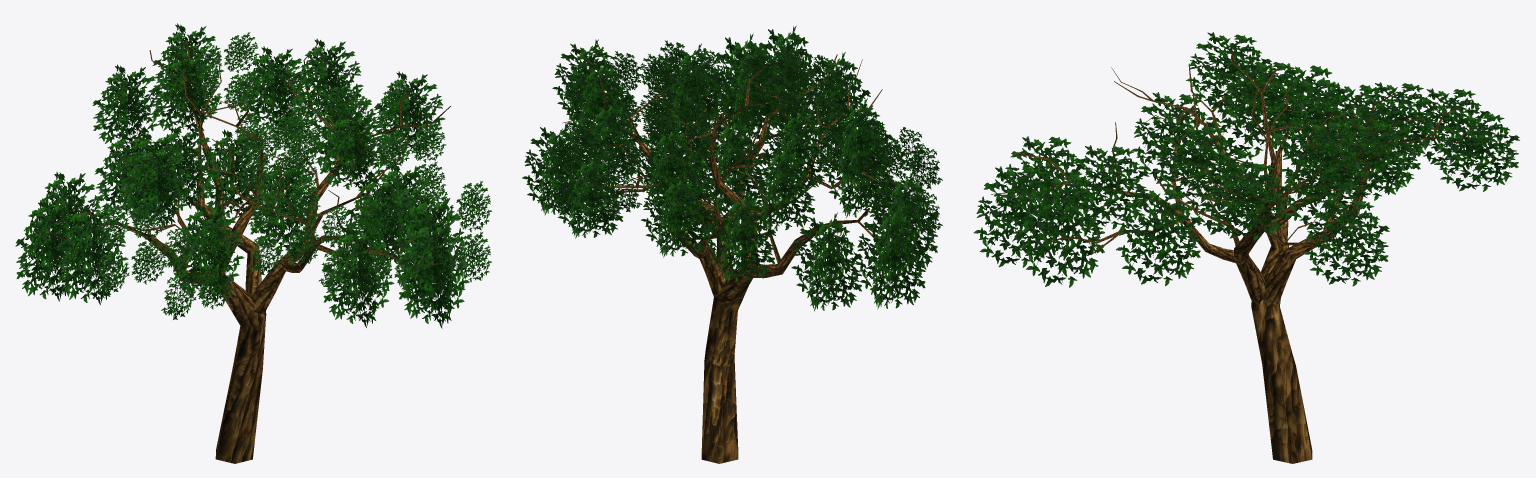
The model's file is LVL_ROAST_MUTTON_INSTANCE_OAK_TREE.fbx.
The picture shows the model from 3 angles, left to right: view 1: azimuth 30°, elevation 25°; view 2: azimuth 150°, elevation 25°; view 3: azimuth 270°, elevation 25°; orthographic projection. The views are drawn at different scales.
Visible parts, largest first — view 1: LVL_ROAST_MUTTON_INSTANCE_OAK_TREE; view 2: LVL_ROAST_MUTTON_INSTANCE_OAK_TREE; view 3: LVL_ROAST_MUTTON_INSTANCE_OAK_TREE.
Part boxes in pixels (box(x1,y1,x2,y2)): LVL_ROAST_MUTTON_INSTANCE_OAK_TREE: box(15, 23, 491, 463); LVL_ROAST_MUTTON_INSTANCE_OAK_TREE: box(522, 26, 942, 463); LVL_ROAST_MUTTON_INSTANCE_OAK_TREE: box(973, 32, 1519, 463).
Size of the model in its own units: 124204 by 110983 by 140409.
2 materials, 2 textured.
